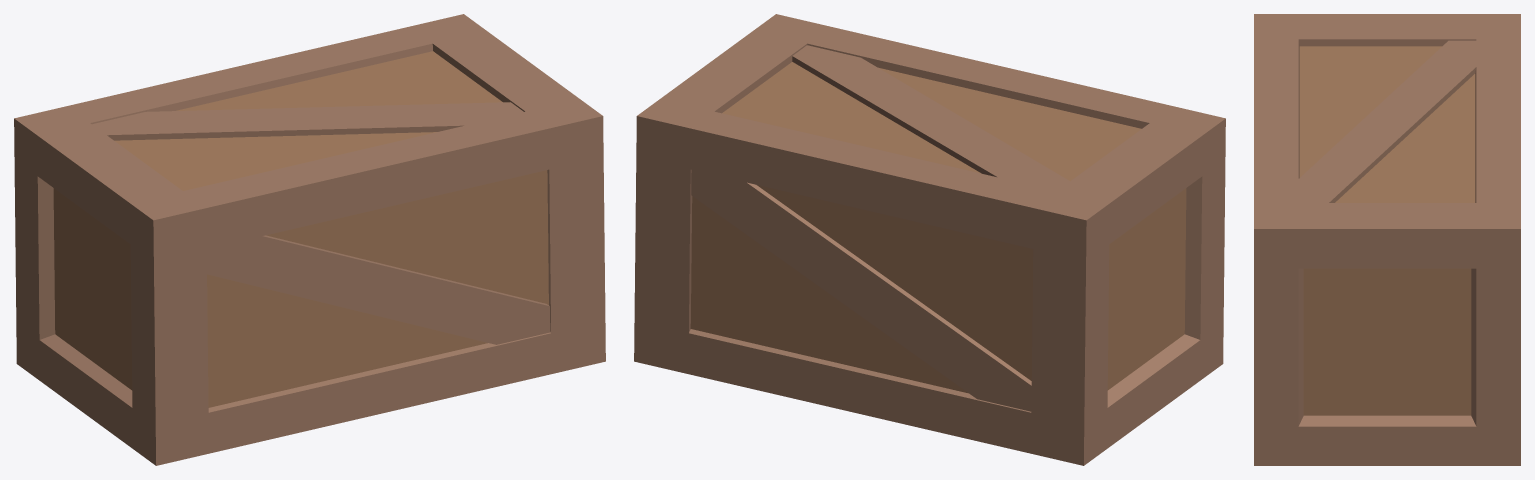
The model's file is Crate-col.glb.
3 renders of one model, left to right at view 1: azimuth 30°, elevation 25°; view 2: azimuth 150°, elevation 25°; view 3: azimuth 270°, elevation 25°, orthographic. The views are drawn at different scales.
Parts seen in each view (by area): view 1: Crate; view 2: Crate; view 3: Crate.
Boxes of the visible parts, x1,y1,x2,y2 form: Crate: (14, 14, 605, 465); Crate: (634, 14, 1225, 465); Crate: (1254, 14, 1520, 465).
Bounding box in the file's own units: 1.59 × 0.8466 × 0.85.
